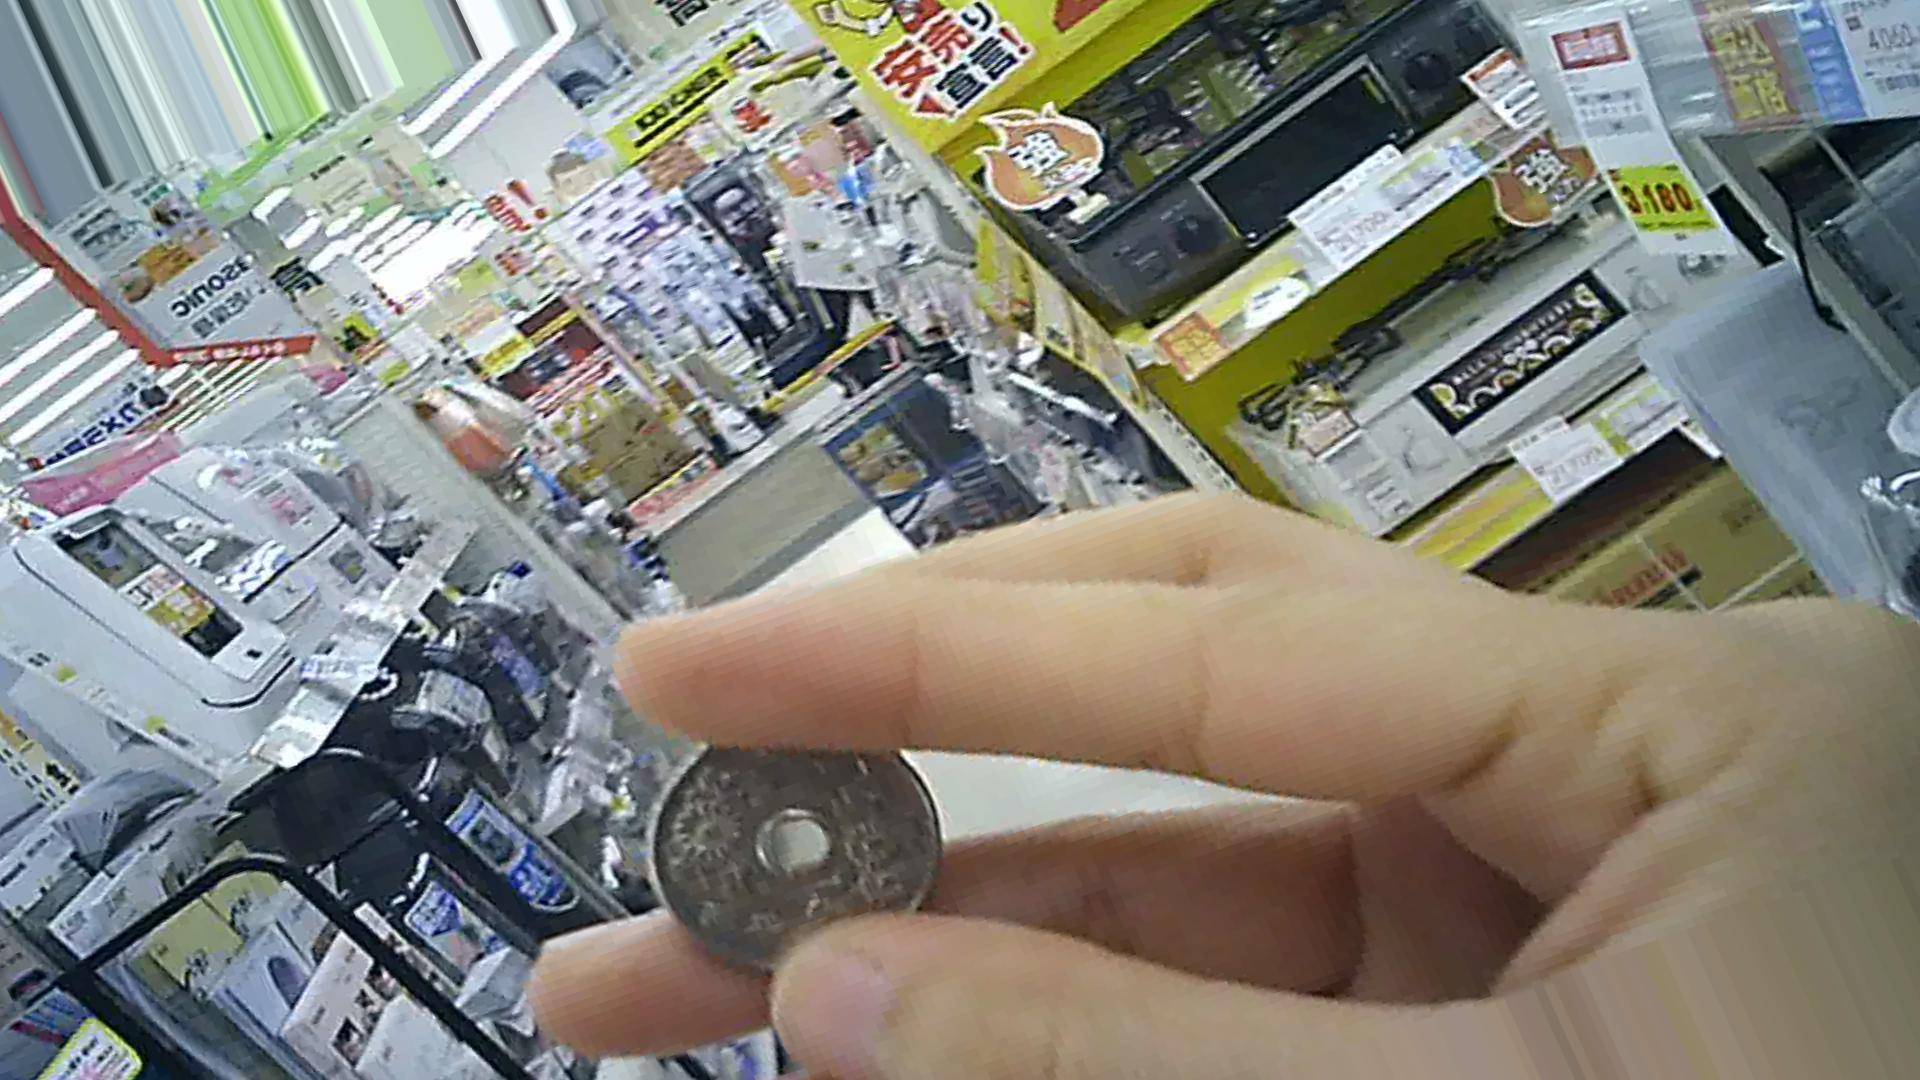50 Yen: (640, 727, 943, 972)
